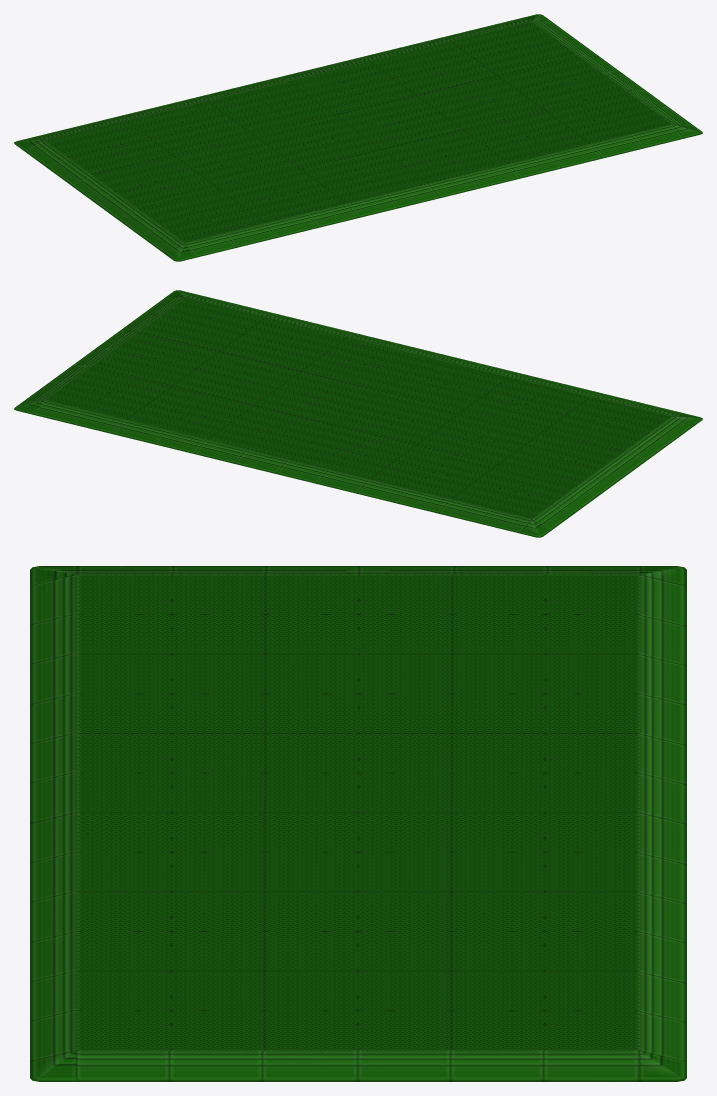
Rendered from set_mat.fbx.
3 renders of one model, top to bottom at view 1: azimuth 30°, elevation 25°; view 2: azimuth 150°, elevation 25°; view 3: azimuth 270°, elevation 25°, orthographic. The views are drawn at different scales.
Parts seen in each view (by area): view 1: set_mat; view 2: set_mat; view 3: set_mat.
Part boxes in pixels (x1,y1,x2,y2): set_mat: [14, 14, 702, 261]; set_mat: [14, 290, 702, 537]; set_mat: [30, 566, 686, 1081].
Size of the model in its own units: 195 by 2 by 105.
